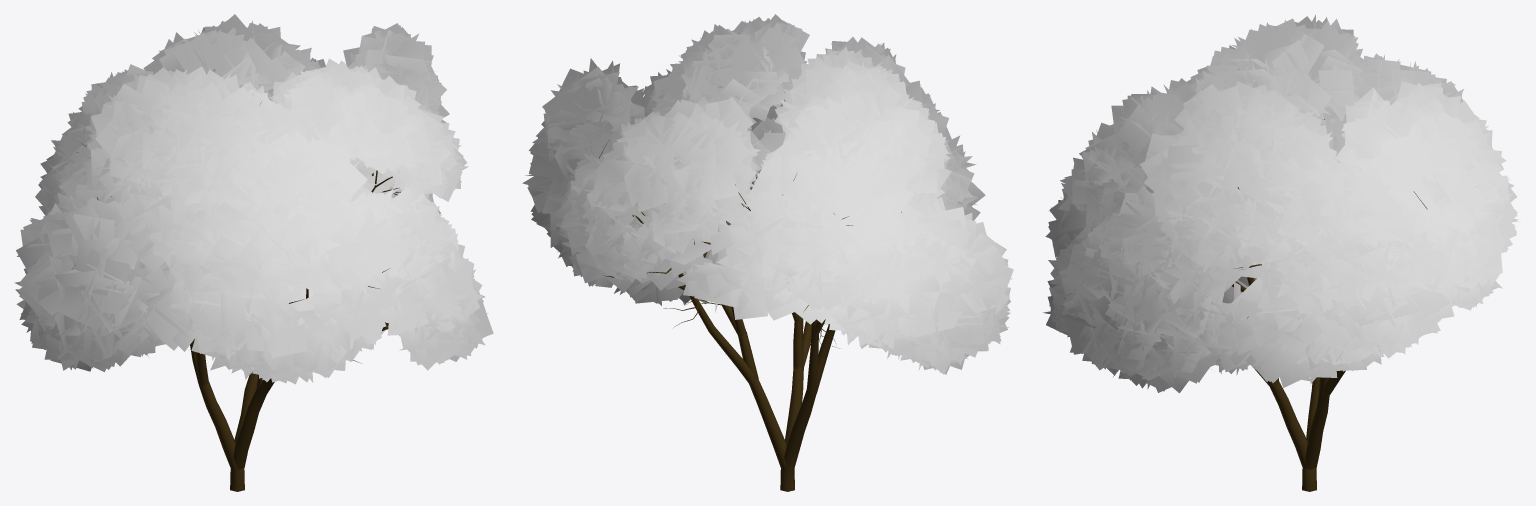
The model's file is Tree2_vov.fbx.
3 renders of one model, left to right at view 1: azimuth 30°, elevation 25°; view 2: azimuth 150°, elevation 25°; view 3: azimuth 270°, elevation 25°, orthographic. The views are drawn at different scales.
Visible parts, largest first — view 1: leaves, Trunk; view 2: leaves, Trunk; view 3: leaves, Trunk.
Boxes of the visible parts, left/top/right/bottom form: leaves: left=14, top=14, right=493, bottom=384; Trunk: left=75, top=59, right=400, bottom=491; leaves: left=522, top=14, right=1013, bottom=374; Trunk: left=599, top=107, right=901, bottom=491; leaves: left=1043, top=14, right=1520, bottom=393; Trunk: left=1063, top=69, right=1455, bottom=491.
Bounding box in the file's own units: 1220 × 1164 × 1159.
